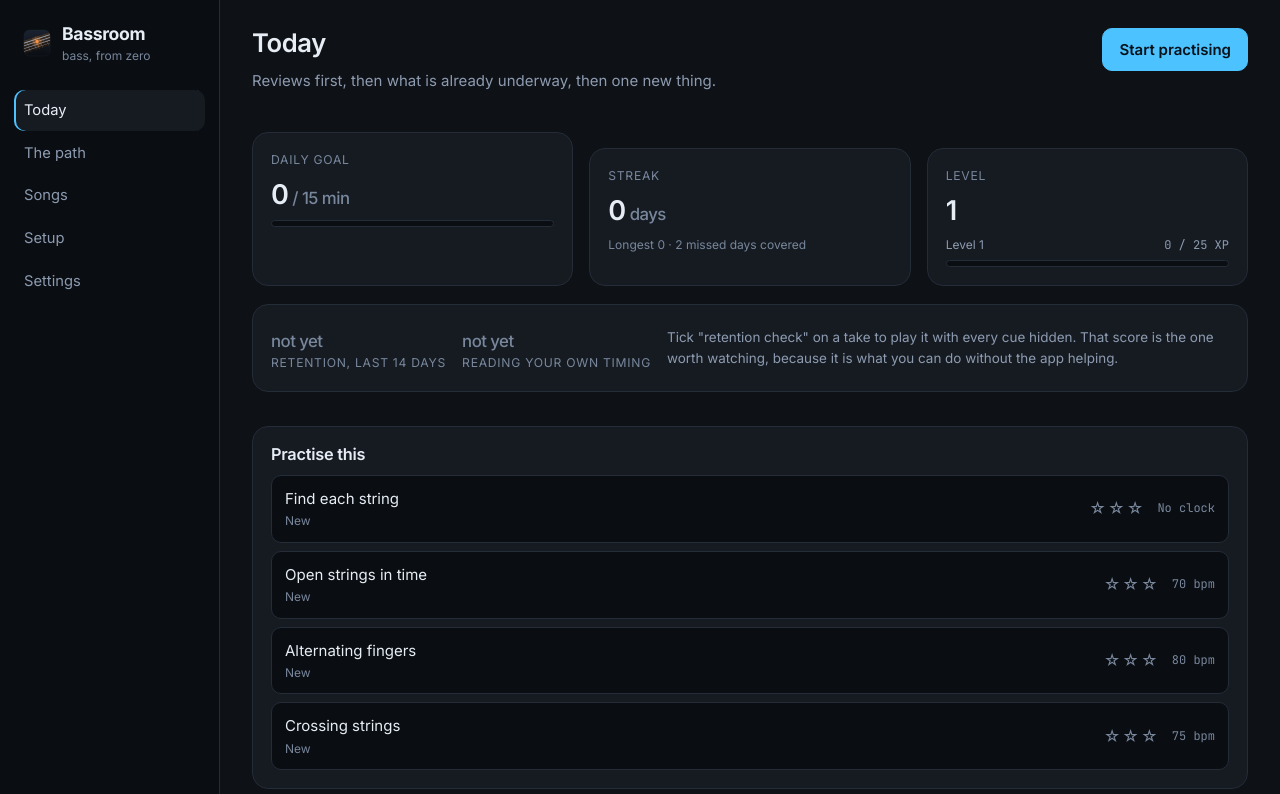
it: the path › lists every unit
Click the button "The path".
click(110, 153)  # box x1=14 y1=133 x2=205 y2=174
(page scrolled)
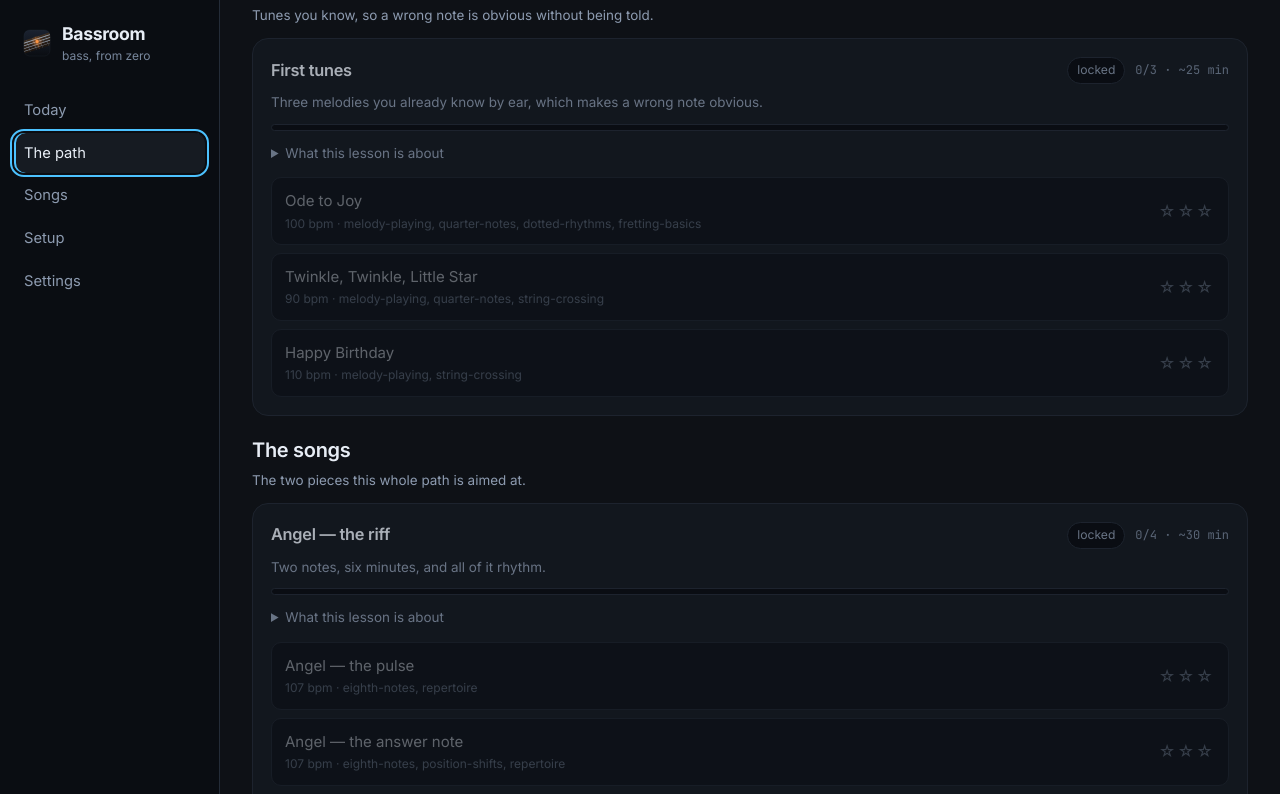
expect the heading "The songs" is shown: met, box x1=252 y1=438 x2=350 y2=462
